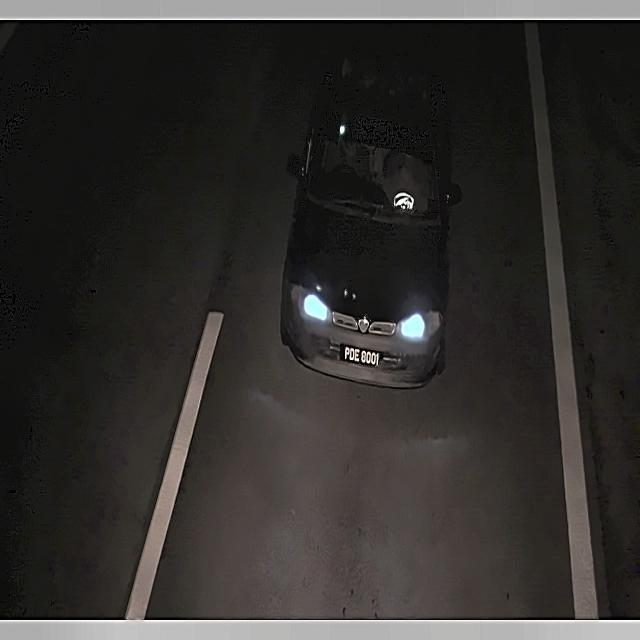car: (338, 339, 385, 374)
